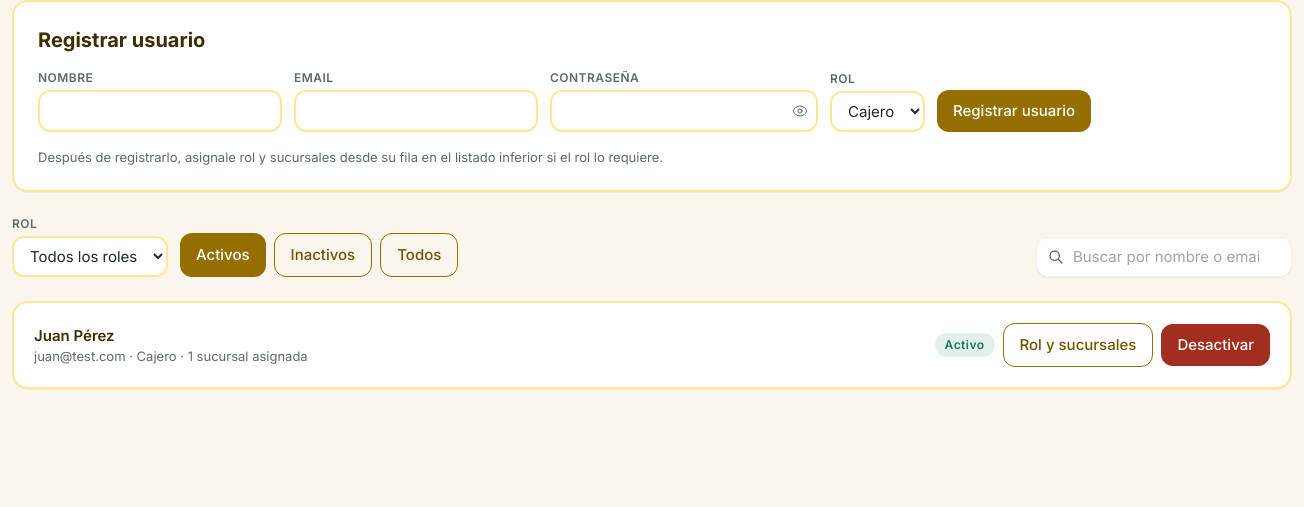
Test: Usuarios › registra un usuario nuevo y lo agrega al listado sin volver a pedirlo completo al backend
The width and height of the screenshot is (1304, 507).
Check: the text "Juan Pérez" is shown, box top-left (34, 326), bottom-right (115, 345)
In the field labelled "Nombre": (160, 111) top-left (38, 90), bottom-right (282, 132), type "Ana Torres"
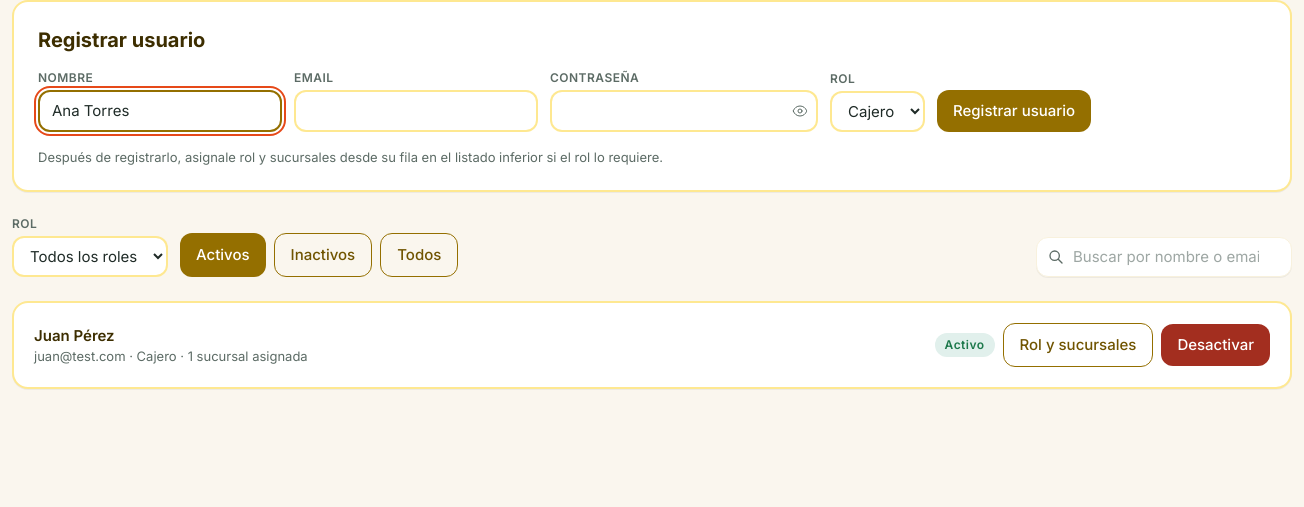
In the field labelled "Email": (416, 111) top-left (294, 90), bottom-right (538, 132), type "ana@test.com"
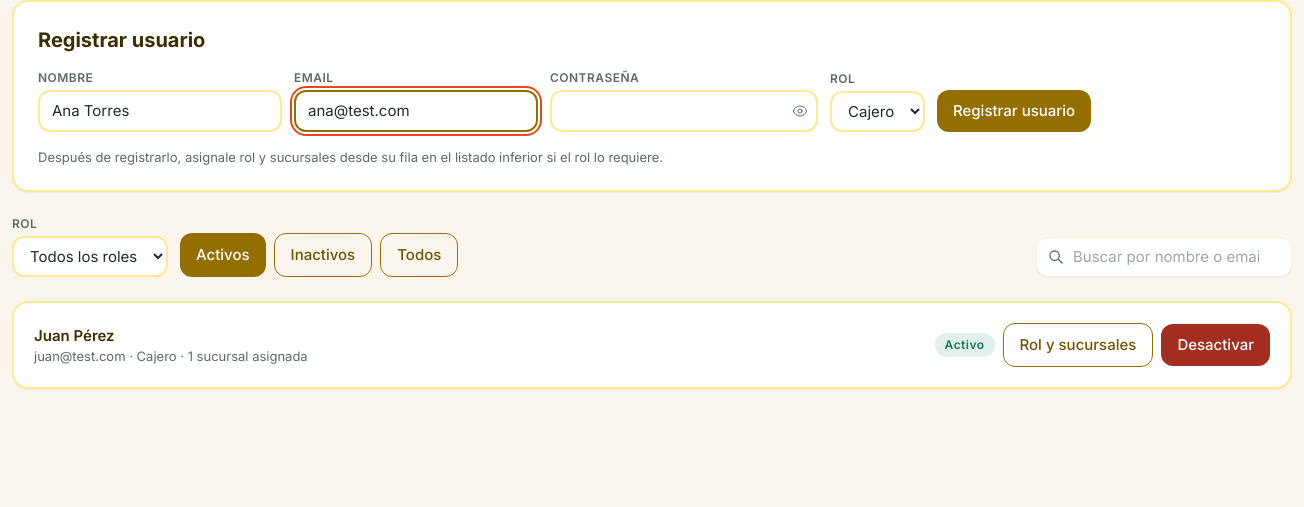
In the password field labelled "Contraseña": (684, 111) top-left (550, 90), bottom-right (818, 132), type "clave1234"
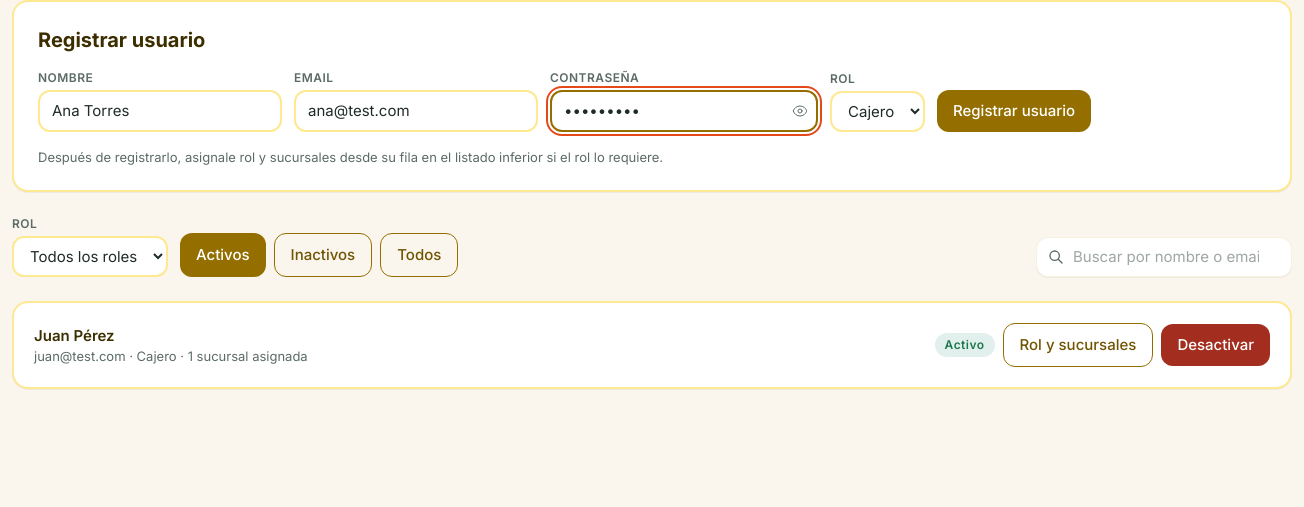
Click the button "Registrar usuario": click(1014, 111) top-left (937, 90), bottom-right (1091, 132)
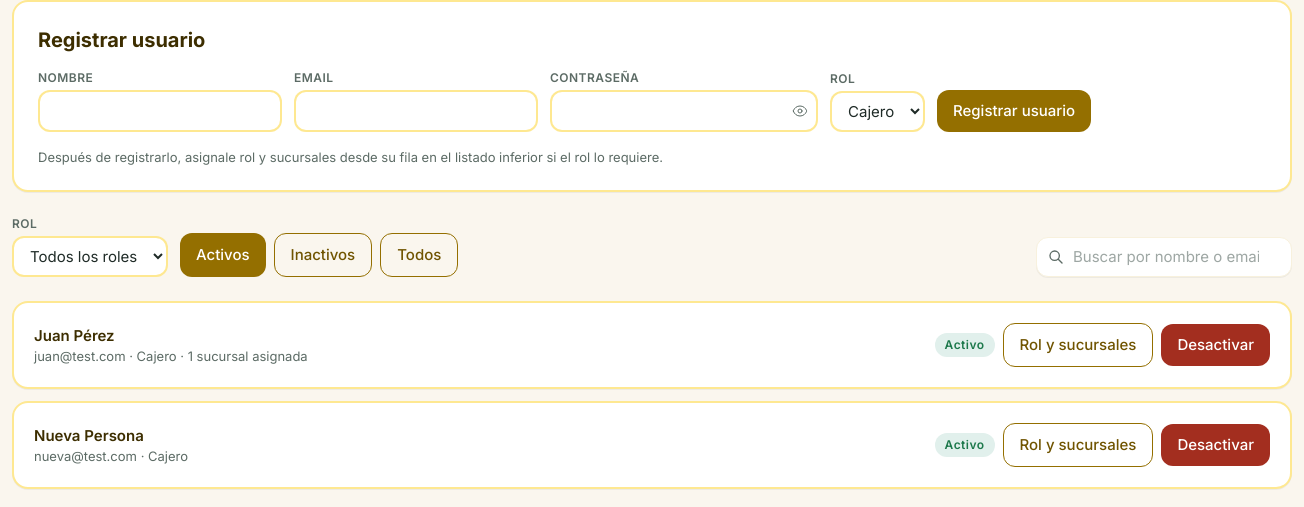
Check: the text "Nueva Persona" is shown, box top-left (34, 426), bottom-right (144, 445)
